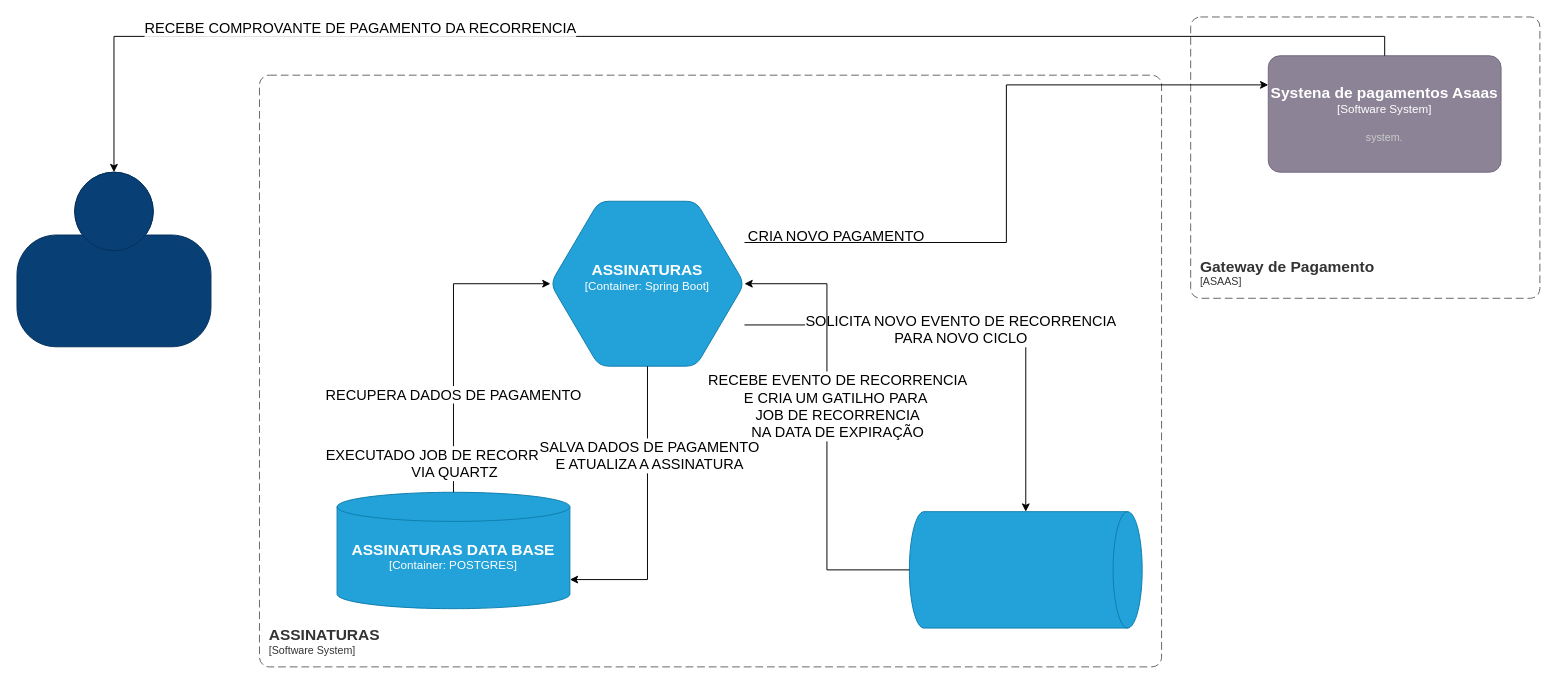
Image size: 1557x684. Some labels were removed from this diagram. Each missing label, with the centre of its shape:
MENSAGERIA [Container: RABBITMQ]: point 1025,569
USUARIO [Person]: point 113,259
